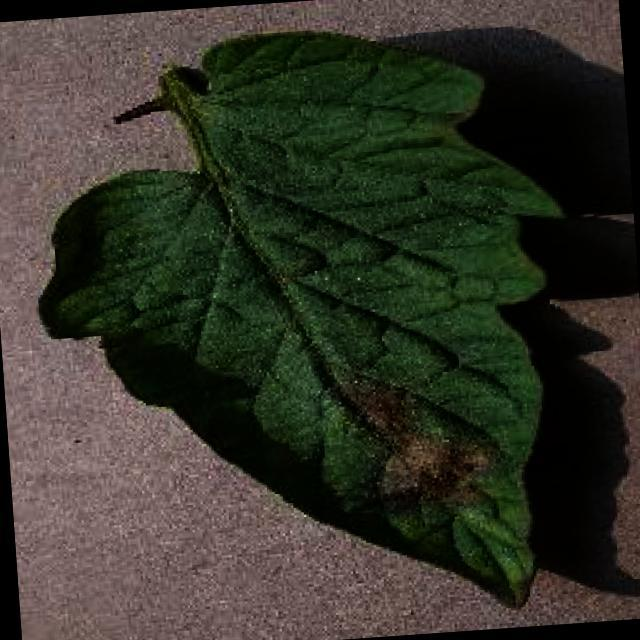Tomato late blight leaf: (20, 6, 597, 640)
